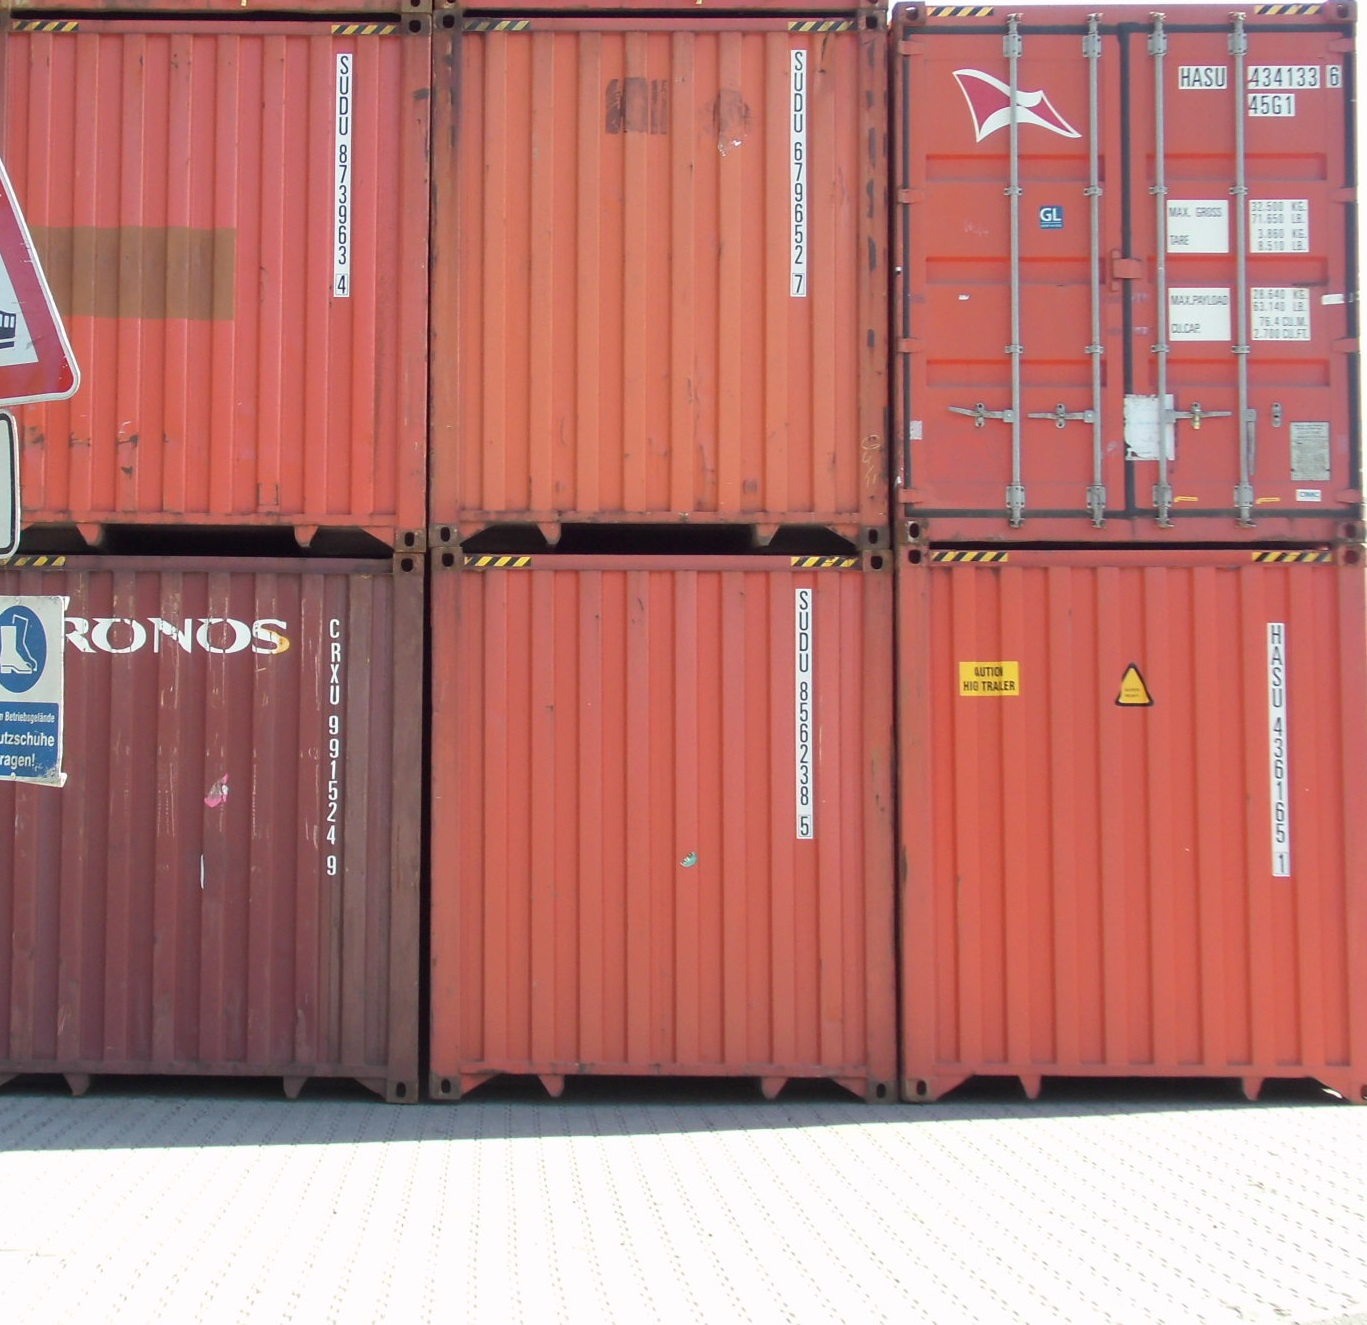container_door: (897, 1, 1358, 548)
container_no_door: (901, 548, 1367, 1102), (430, 550, 895, 1104), (433, 16, 891, 548), (1, 551, 424, 1101), (24, 20, 437, 534)
